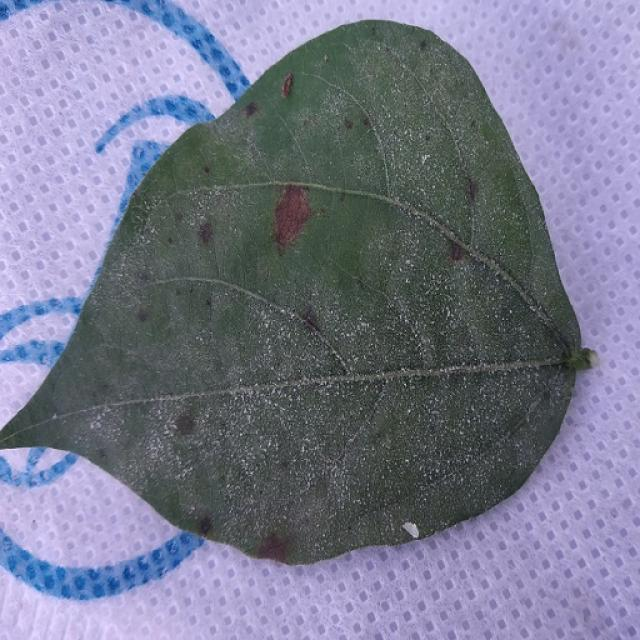Blackgram: (0, 21, 595, 562)
Powdery_Mildew: (278, 365, 526, 516), (135, 374, 367, 533), (85, 388, 305, 486), (73, 219, 208, 376), (342, 48, 477, 188), (329, 243, 460, 364), (414, 250, 534, 360), (153, 183, 259, 266), (123, 401, 205, 482), (359, 231, 443, 301), (114, 186, 192, 260), (77, 399, 147, 461), (240, 299, 313, 349)
